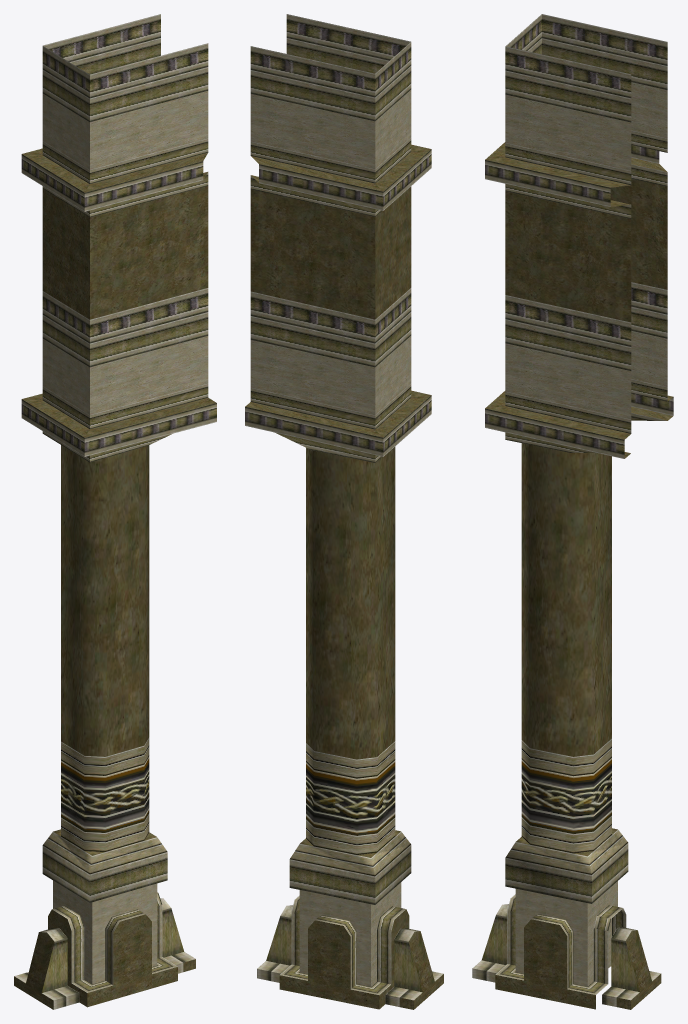
Rendered from CH09_SMAUG_PLAYSURFACE_LAIR67.fbx.
3 views of the same model, side by side, from view 1: azimuth 30°, elevation 25°; view 2: azimuth 150°, elevation 25°; view 3: azimuth 330°, elevation 25° (orthographic).
Visible parts, largest first — view 1: CH09_SMAUG_PLAYSURFACE_LAIR67; view 2: CH09_SMAUG_PLAYSURFACE_LAIR67; view 3: CH09_SMAUG_PLAYSURFACE_LAIR67.
Part boxes in pixels (<box>): CH09_SMAUG_PLAYSURFACE_LAIR67: <box>14,14,216,1009</box>; CH09_SMAUG_PLAYSURFACE_LAIR67: <box>245,14,443,1009</box>; CH09_SMAUG_PLAYSURFACE_LAIR67: <box>472,14,673,1009</box>.
Size of the model in its own units: 49441 by 271667 by 30931.
7 materials, 7 textured.
